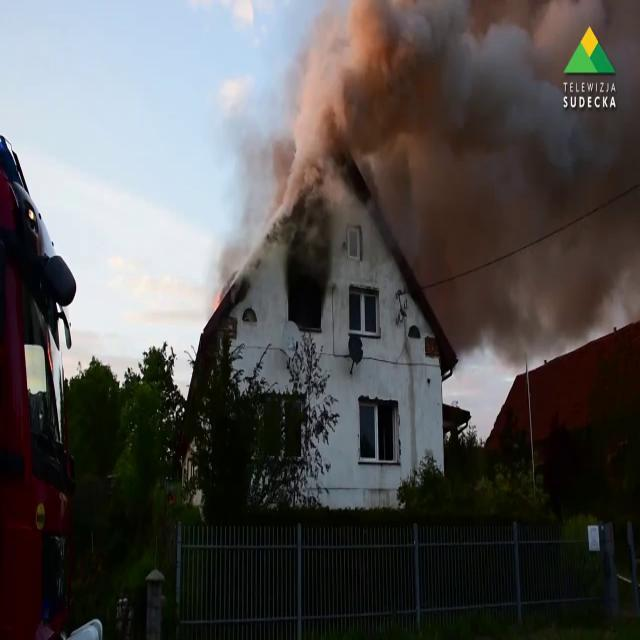Smoke: (274, 1, 640, 328), (0, 7, 69, 340)
